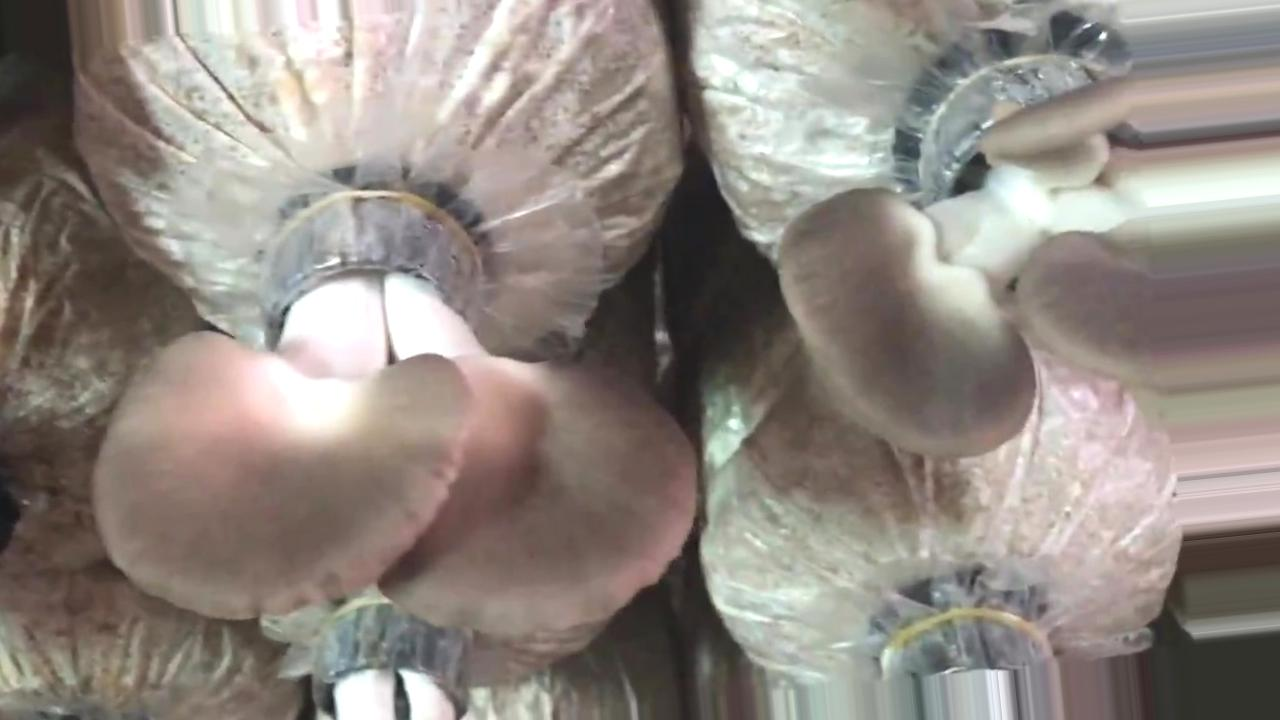nam: (86, 175, 699, 643), (775, 53, 1280, 463)
